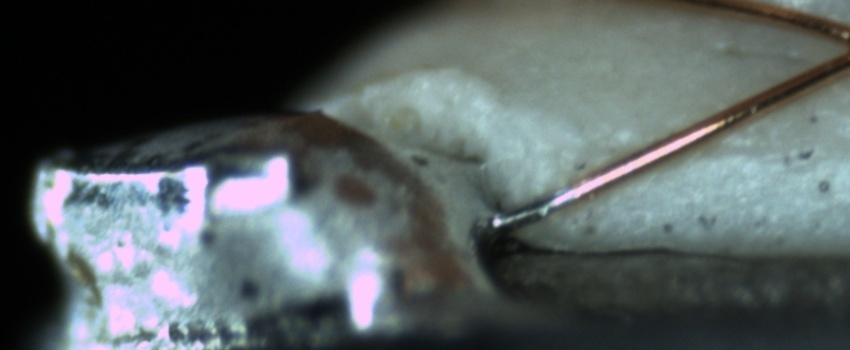DL: (677, 120, 849, 184)
TS: (491, 188, 576, 230)
